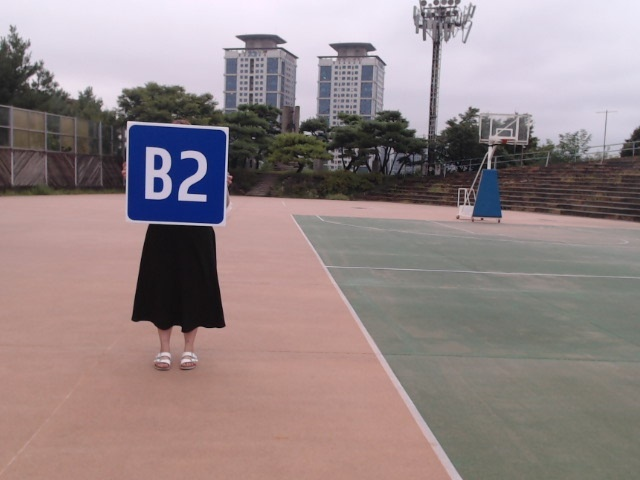delivery_b2: (125, 124, 228, 226)
